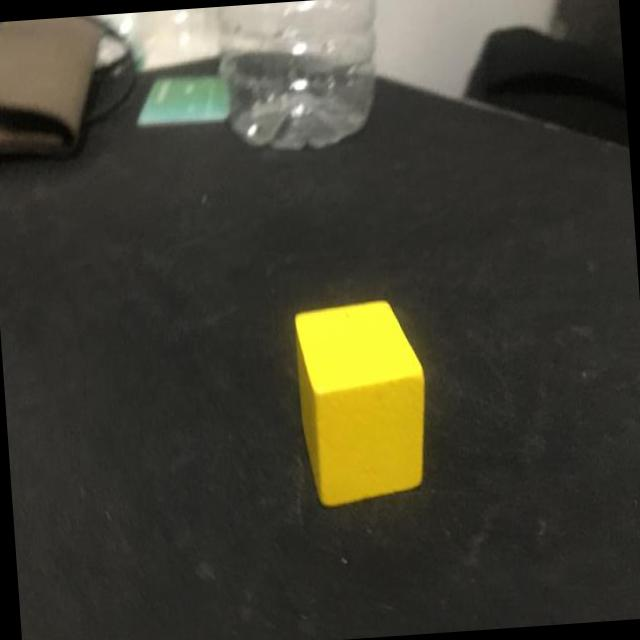yellow: (292, 297, 432, 506)
